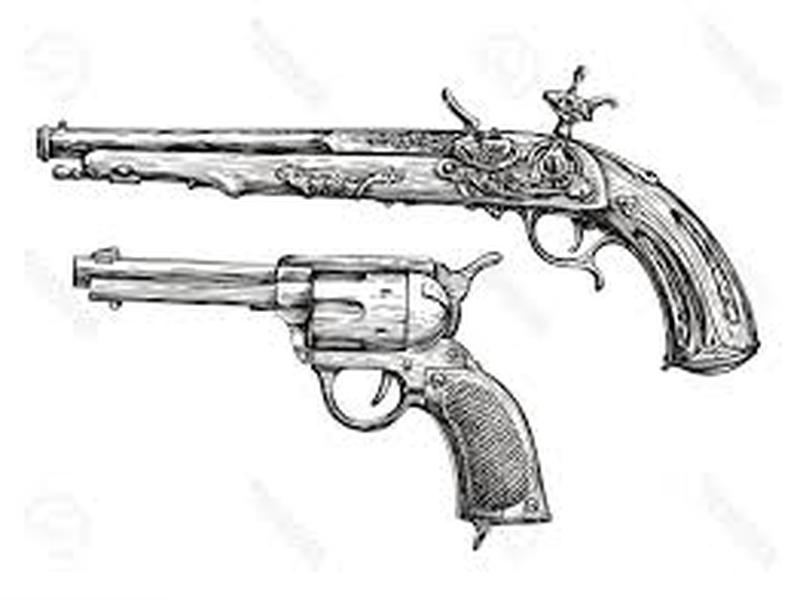gun: (34, 53, 765, 378), (75, 245, 559, 529)
